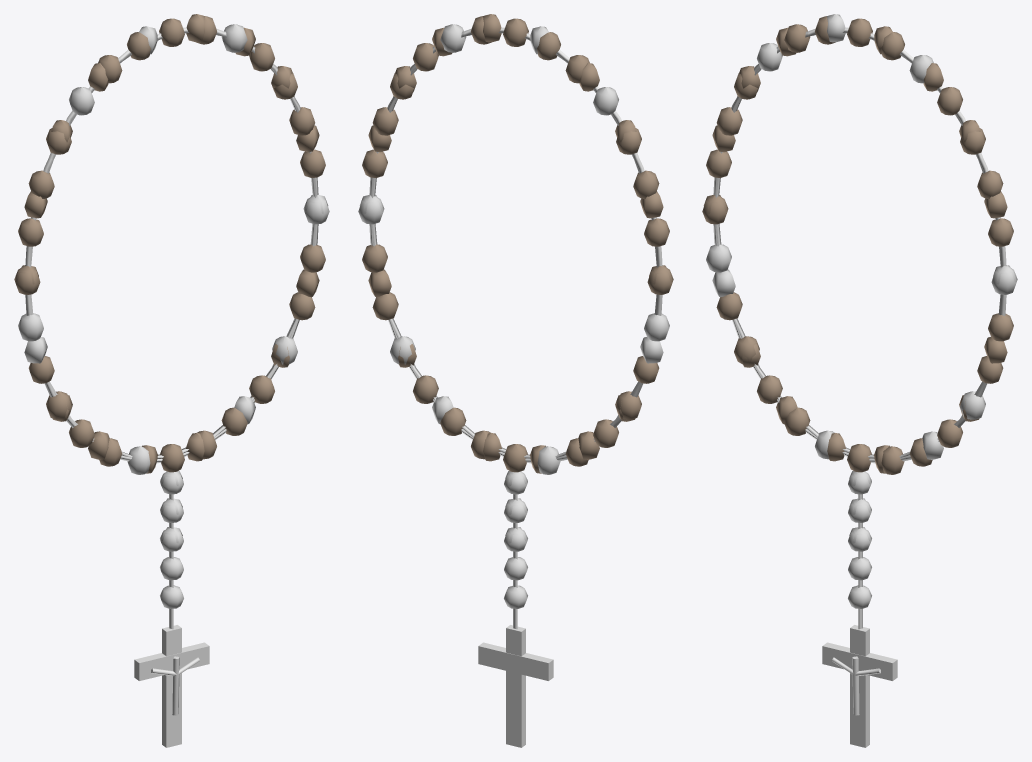
The model's file is inspect_rosary.glb.
3 views of the same model, side by side, from view 1: azimuth 30°, elevation 25°; view 2: azimuth 150°, elevation 25°; view 3: azimuth 330°, elevation 25° (orthographic).
Parts seen in each view (by area): view 1: inspect_rosary-1, inspect_rosary_lod-1, inspect_rosary-2, inspect_rosary_lod-2, inspect_rosary-0, inspect_rosary_lod-0, inspect_rosary-3; view 2: inspect_rosary-1, inspect_rosary_lod-1, inspect_rosary-2, inspect_rosary_lod-2, inspect_rosary-0, inspect_rosary_lod-0; view 3: inspect_rosary-1, inspect_rosary_lod-1, inspect_rosary-2, inspect_rosary_lod-2, inspect_rosary-0, inspect_rosary_lod-0, inspect_rosary-3.
Part boxes in pixels (x1=…): inspect_rosary-1: x1=14, y1=16, x2=329, y2=608; inspect_rosary_lod-1: x1=16, y1=14, x2=328, y2=543; inspect_rosary-2: x1=134, y1=629, x2=209, y2=747; inspect_rosary_lod-2: x1=134, y1=625, x2=209, y2=746; inspect_rosary-0: x1=25, y1=31, x2=318, y2=629; inspect_rosary_lod-0: x1=31, y1=27, x2=315, y2=496; inspect_rosary-3: x1=151, y1=656, x2=200, y2=715; inspect_rosary-1: x1=358, y1=16, x2=673, y2=608; inspect_rosary_lod-1: x1=359, y1=14, x2=671, y2=543; inspect_rosary-2: x1=478, y1=629, x2=553, y2=747; inspect_rosary_lod-2: x1=478, y1=625, x2=553, y2=746; inspect_rosary-0: x1=369, y1=31, x2=662, y2=629; inspect_rosary_lod-0: x1=372, y1=27, x2=656, y2=496; inspect_rosary-1: x1=702, y1=16, x2=1017, y2=608; inspect_rosary_lod-1: x1=703, y1=14, x2=1015, y2=543; inspect_rosary-2: x1=822, y1=629, x2=897, y2=747; inspect_rosary_lod-2: x1=822, y1=625, x2=897, y2=746; inspect_rosary-0: x1=713, y1=31, x2=1006, y2=629; inspect_rosary_lod-0: x1=716, y1=27, x2=1000, y2=497; inspect_rosary-3: x1=831, y1=656, x2=880, y2=715.
Size of the model in its own units: 0.08 by 0.1775 by 0.006.
